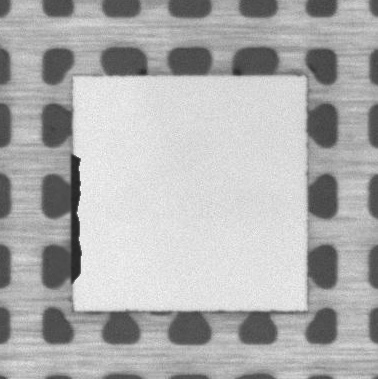DIE_BROKEN: (68, 148, 84, 287)
